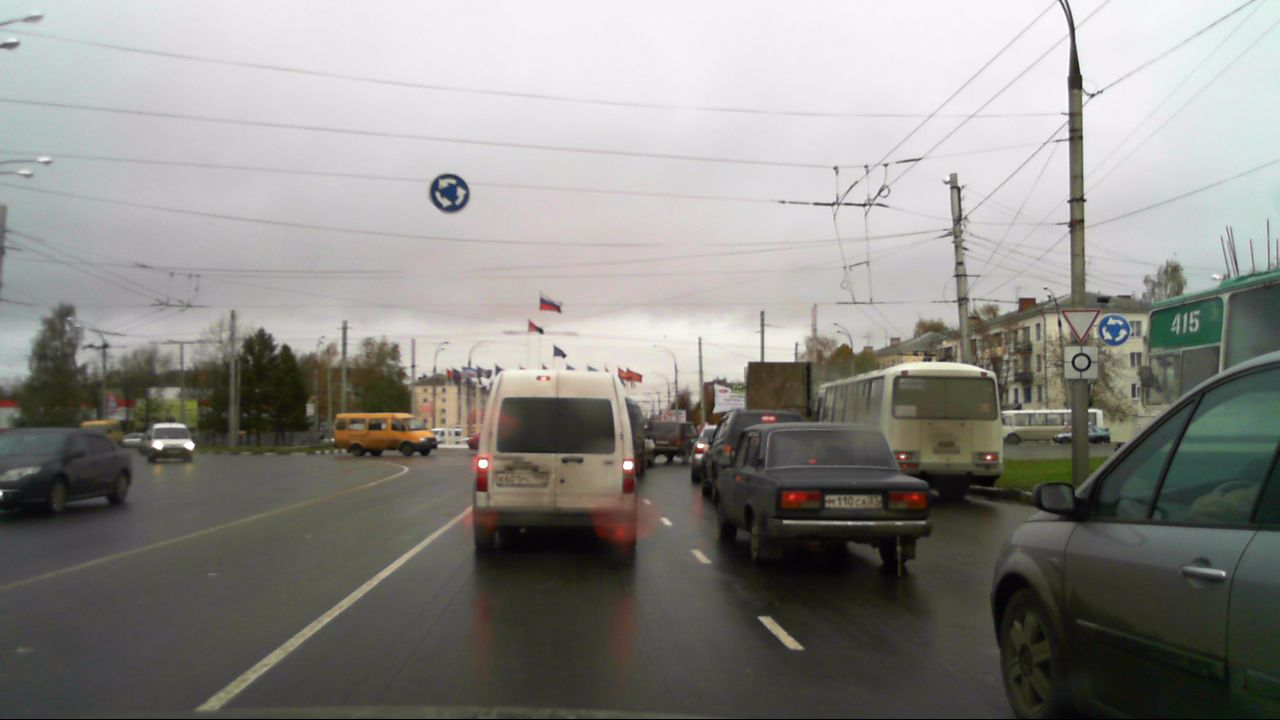Round-About: (1098, 314, 1130, 347)
